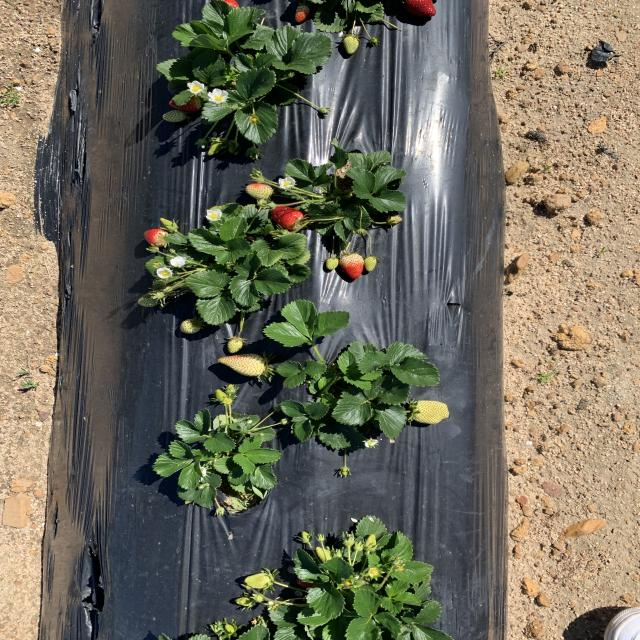unripe: (269, 202, 310, 230), (403, 0, 439, 21)
